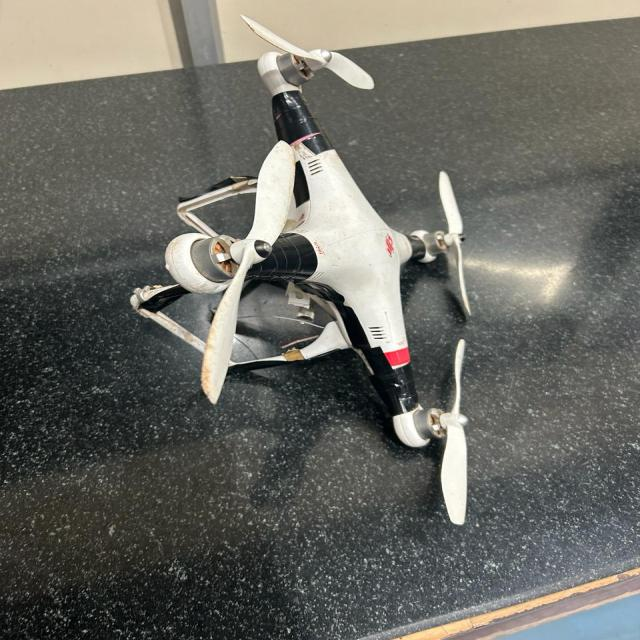drone: (65, 6, 556, 544)
